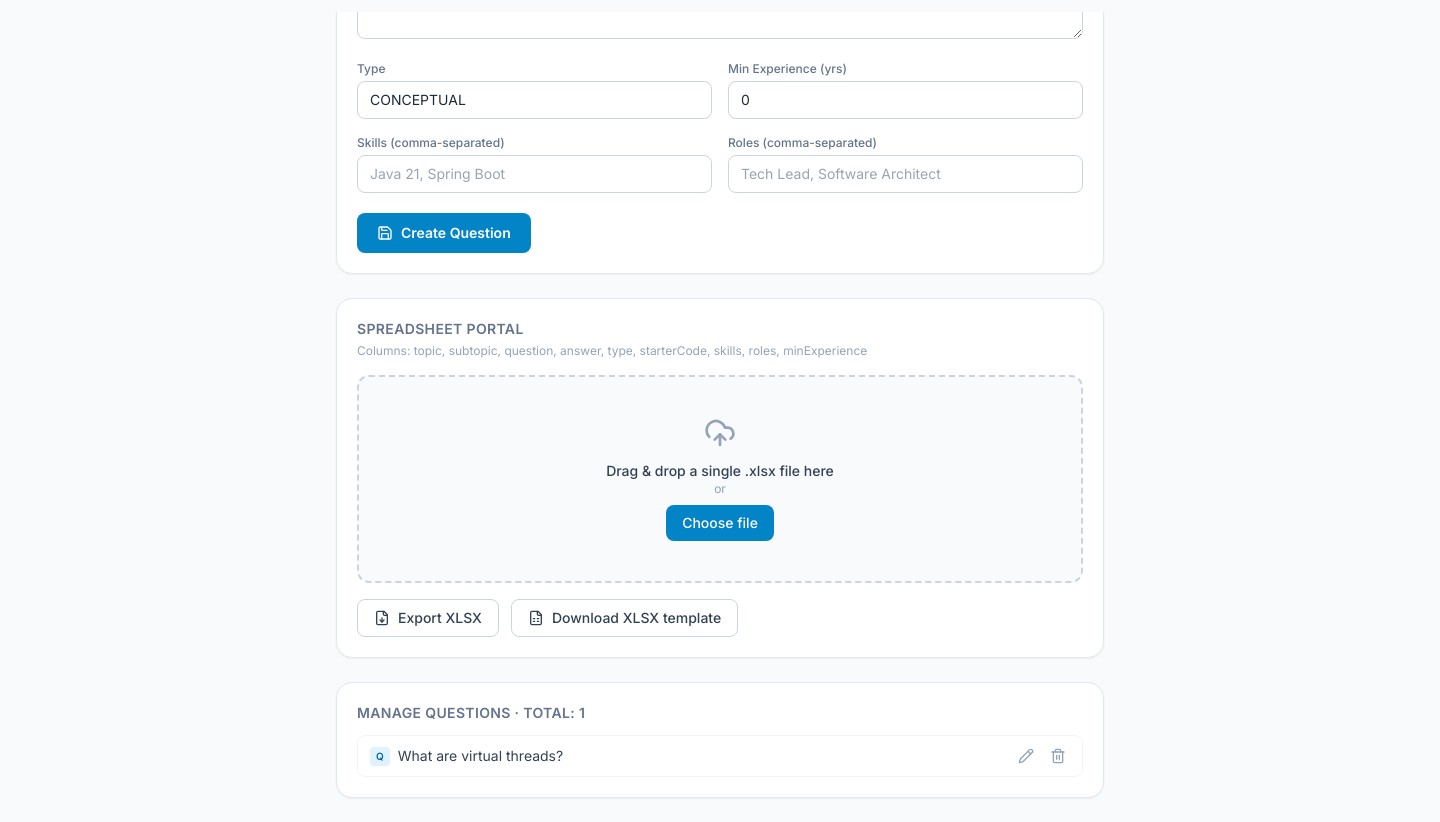
Test: AdminPanel › handles export error gracefully
(page scrolled)
Click the button "Export XLSX": click(428, 618) [357,599,499,637]
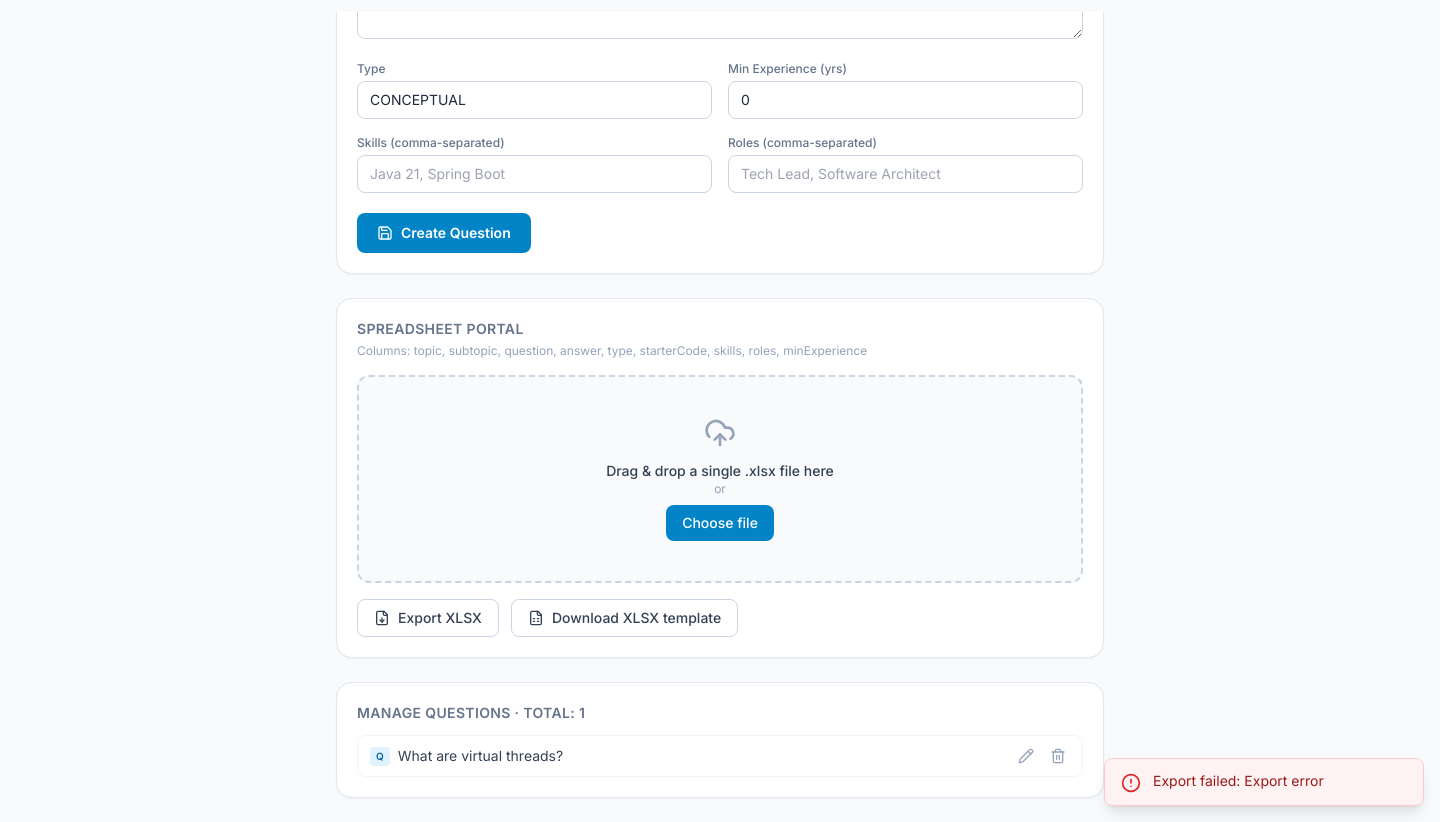
expect the text "Export failed: Export error" is shown: met, box [1153,772,1324,789]
